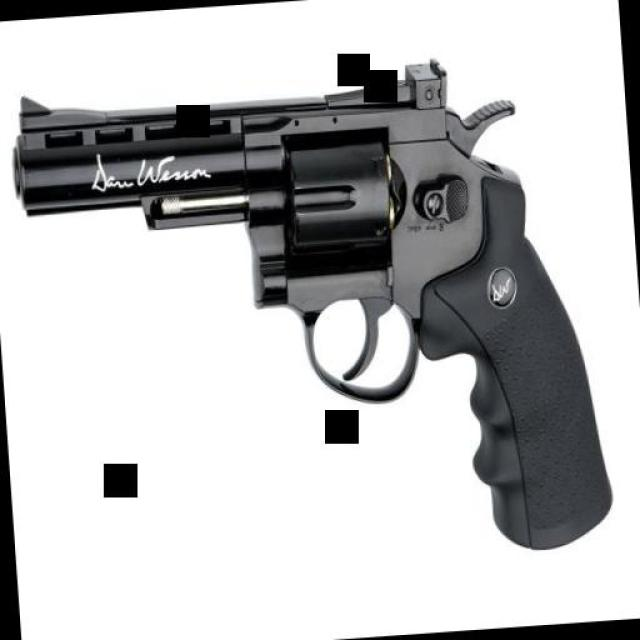gun: (6, 45, 616, 595)
